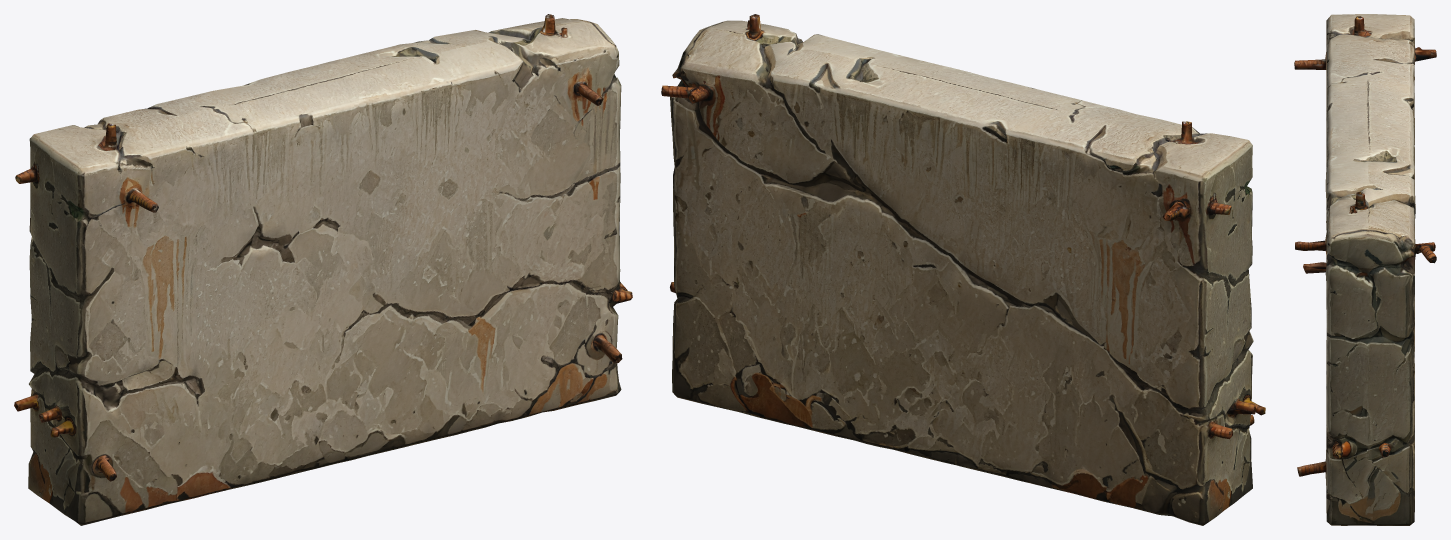
The model's file is Settle_Patch_Concrete.fbx.
The picture shows the model from 3 angles, left to right: view 1: azimuth 30°, elevation 25°; view 2: azimuth 150°, elevation 25°; view 3: azimuth 270°, elevation 25°; orthographic projection. The views are drawn at different scales.
Parts seen in each view (by area): view 1: texture_mapping; view 2: texture_mapping; view 3: texture_mapping.
Boxes of the visible parts, x1,y1,x2,y2 form: texture_mapping: (14, 14, 632, 525); texture_mapping: (661, 14, 1265, 525); texture_mapping: (1294, 14, 1436, 525).
Bounding box in the file's own units: 1 × 0.2585 × 0.6253.
Materials: 1 (1 with a texture image).
